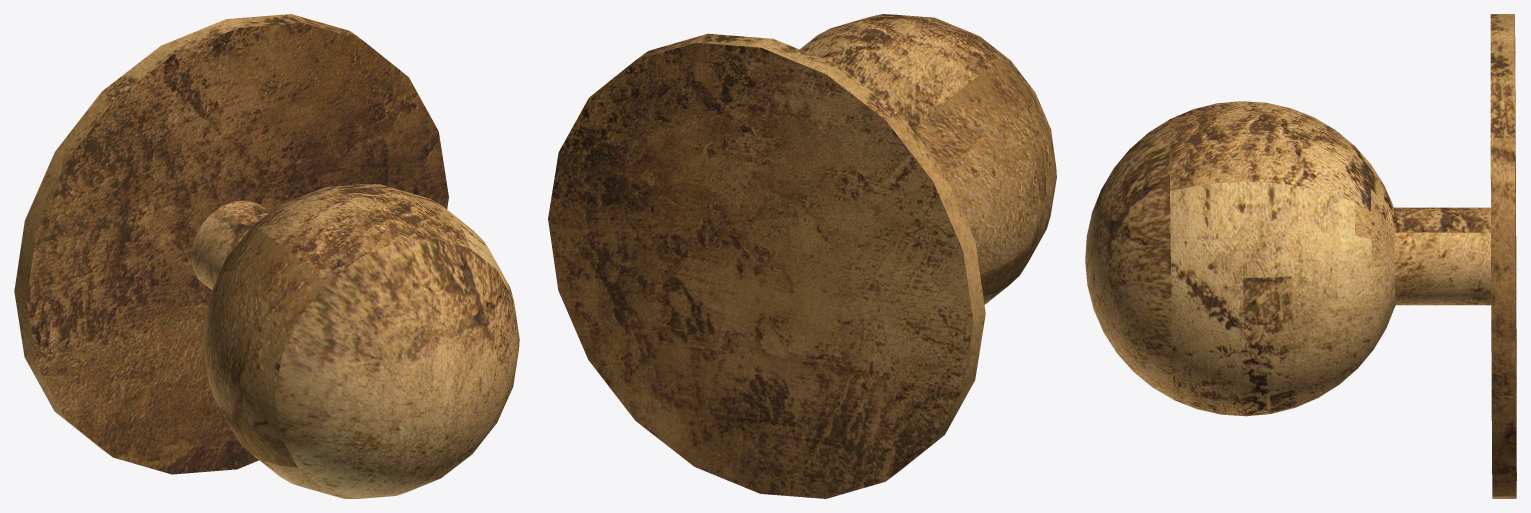
Rendered from doorknob.fbx.
The picture shows the model from 3 angles, left to right: view 1: azimuth 30°, elevation 25°; view 2: azimuth 150°, elevation 25°; view 3: azimuth 270°, elevation 25°; orthographic projection.
Visible parts, largest first — view 1: pSphere1; view 2: pSphere1; view 3: pSphere1.
Boxes of the visible parts, left/top/right/bottom form: pSphere1: left=14, top=14, right=519, bottom=498; pSphere1: left=548, top=14, right=1056, bottom=498; pSphere1: left=1085, top=14, right=1516, bottom=498.
Size of the model in its own units: 0.6644 by 0.6643 by 0.5869.
Materials: 1 (1 with a texture image).
